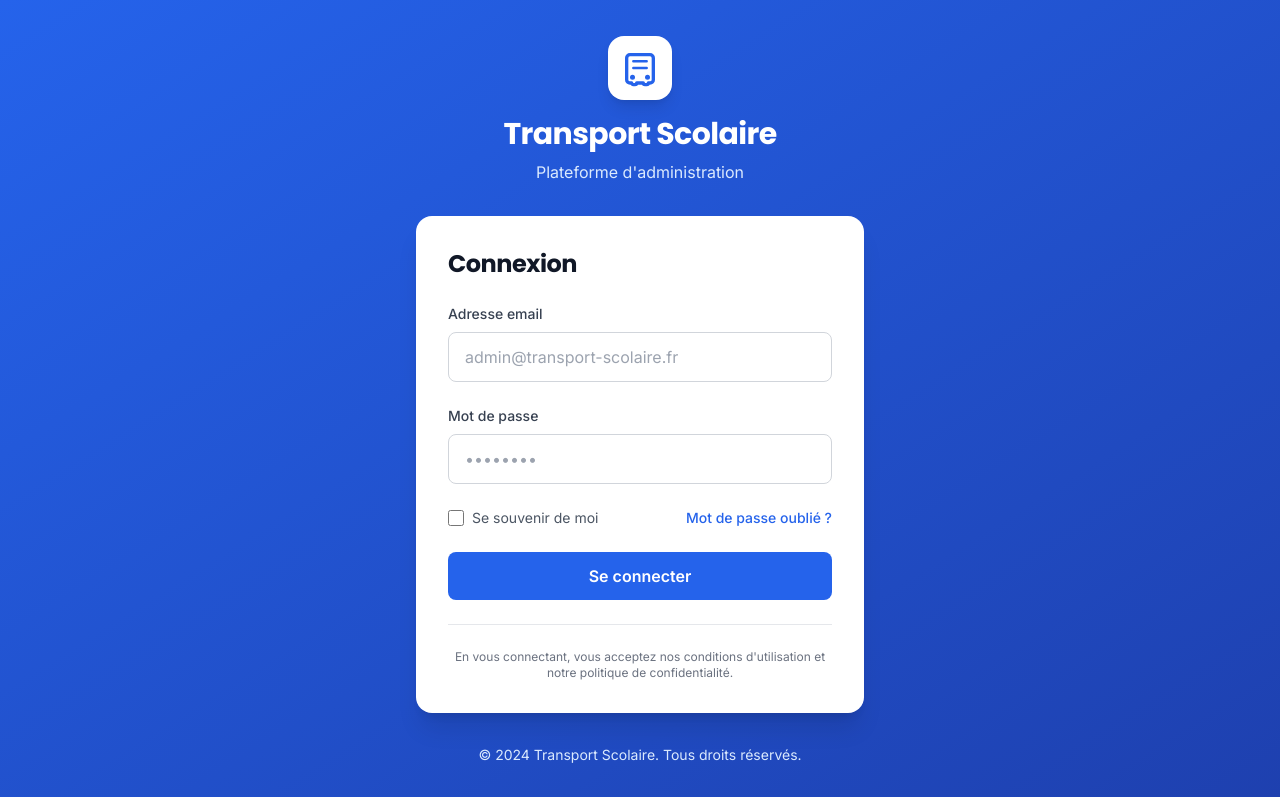
Test: LoginPage › affiche une erreur si la connexion échoue
In the field labelled "Adresse email": (640, 356) [448,332,832,382], type "test@example.com"
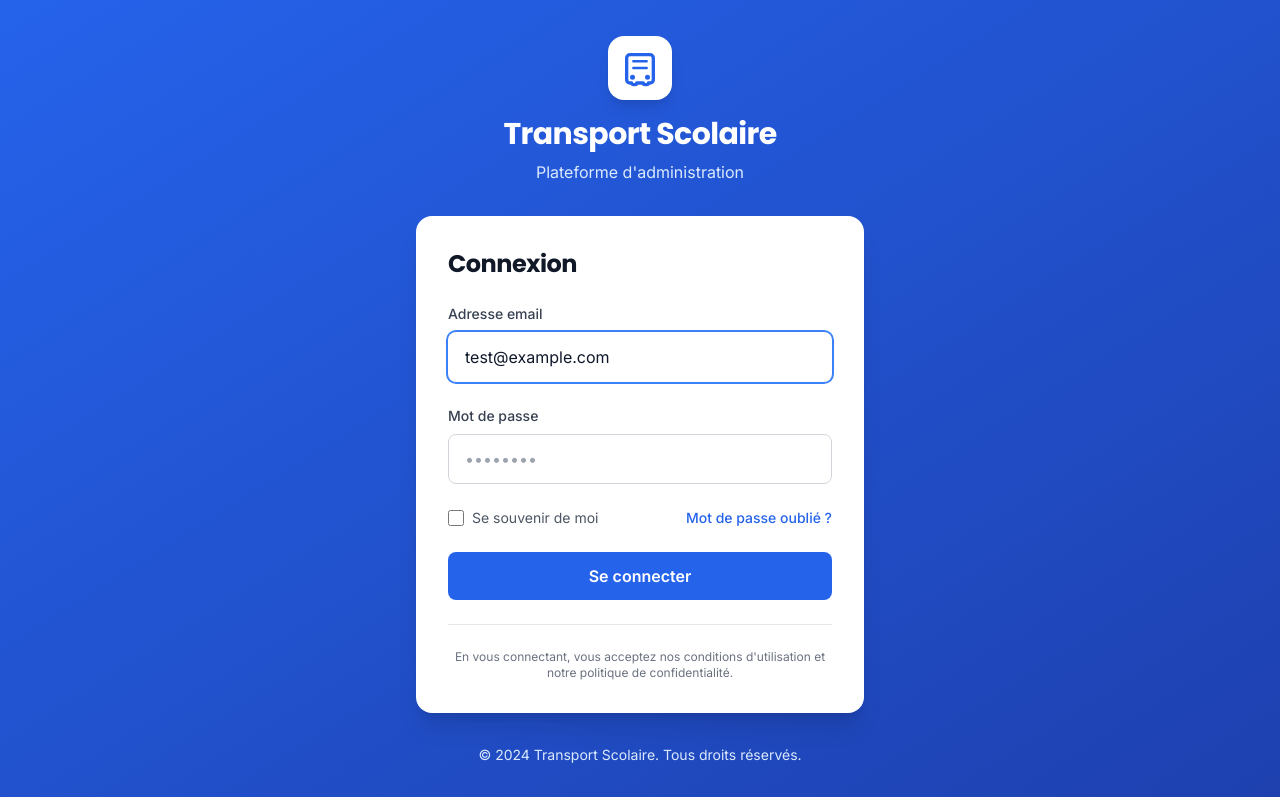
In the password field labelled "Mot de passe": (640, 458) [448,434,832,484], type "wrongpassword"
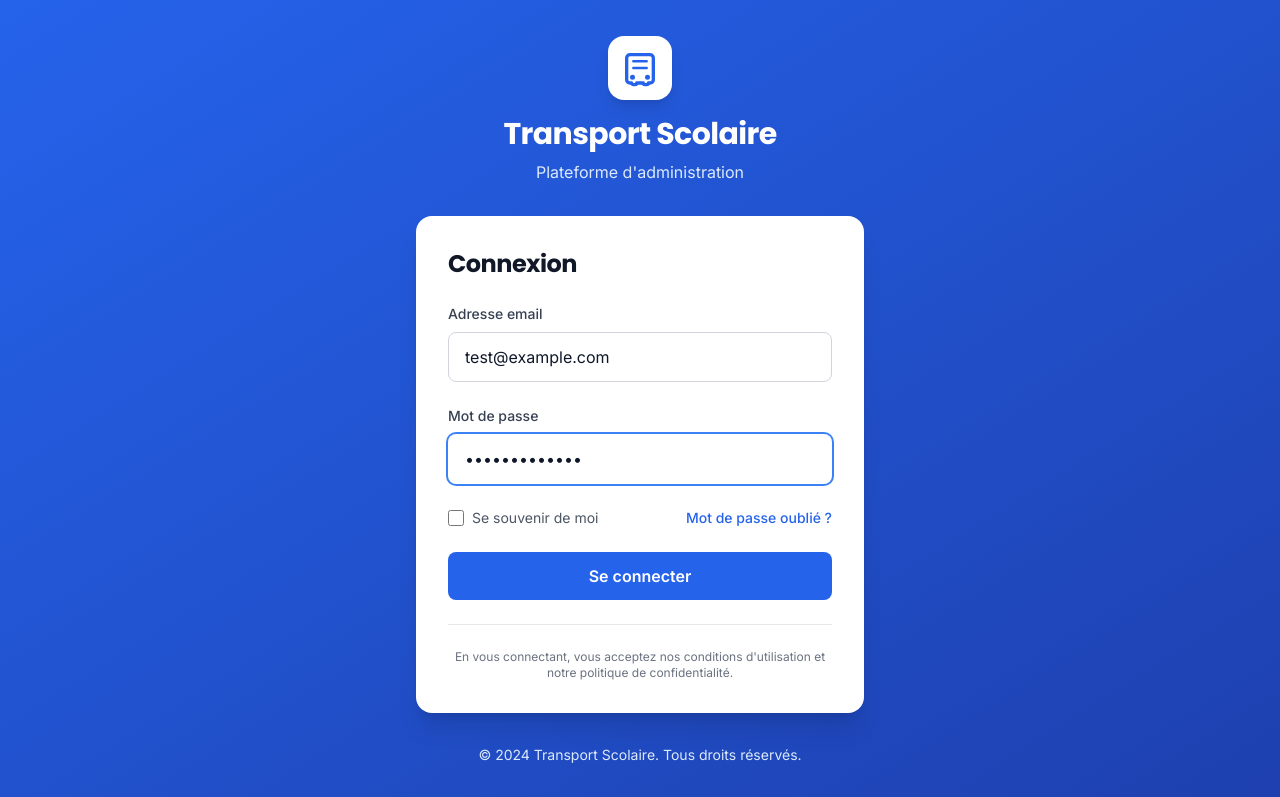
Click the button "Se connecter": (640, 576) [448,552,832,600]
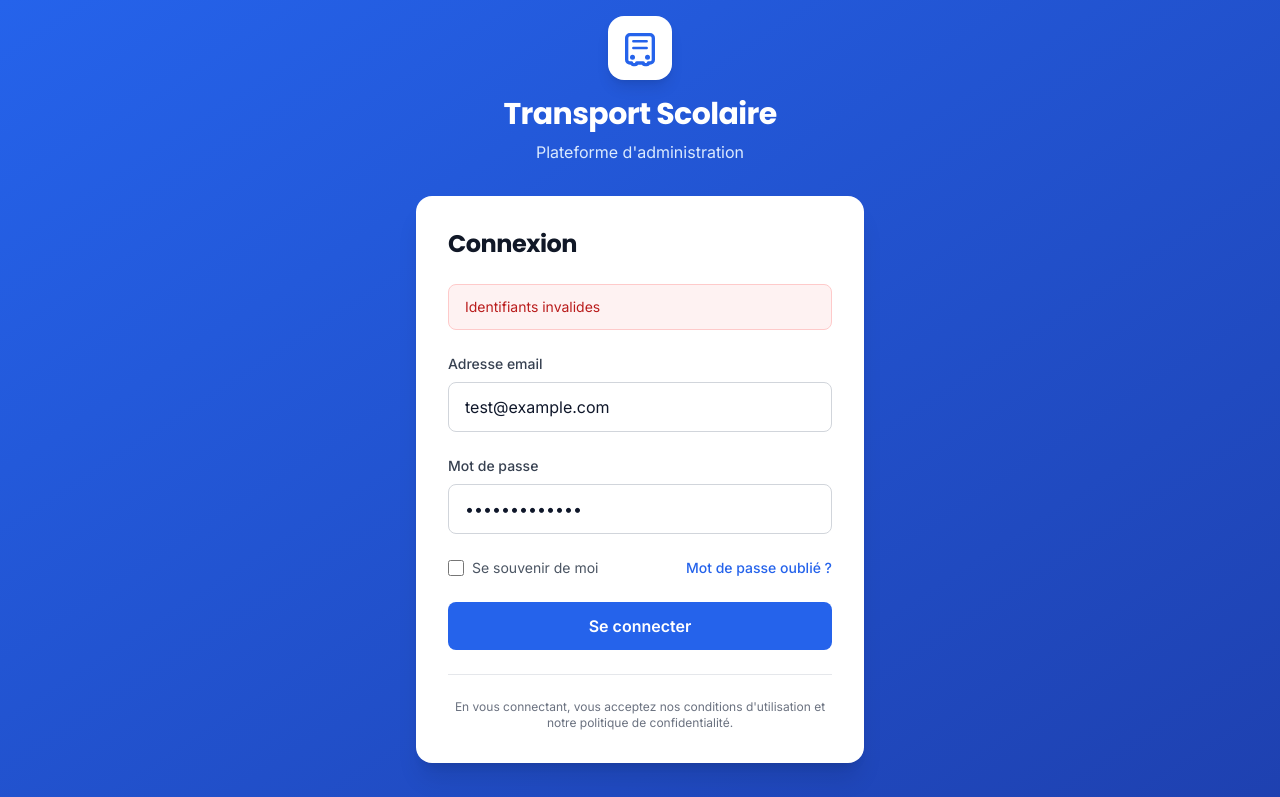
expect the text "Identifiants invalides" is shown: met, box [465,298,600,315]
